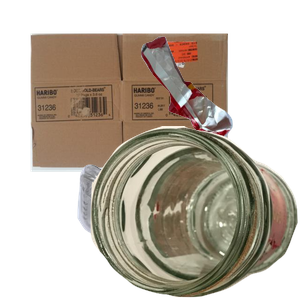cardboard: (28, 31, 249, 195)
glass: (90, 126, 300, 300)
plastic: (75, 147, 289, 300)
trash: (139, 34, 300, 167)
